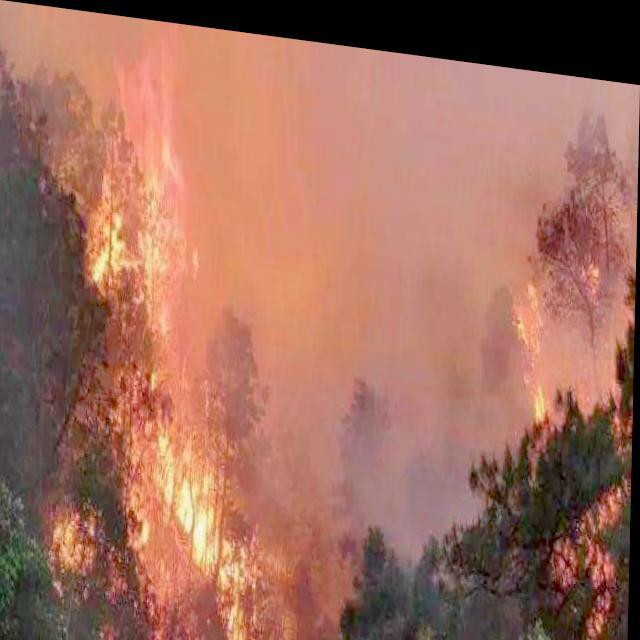Fire: (54, 78, 275, 639), (505, 226, 632, 630)
